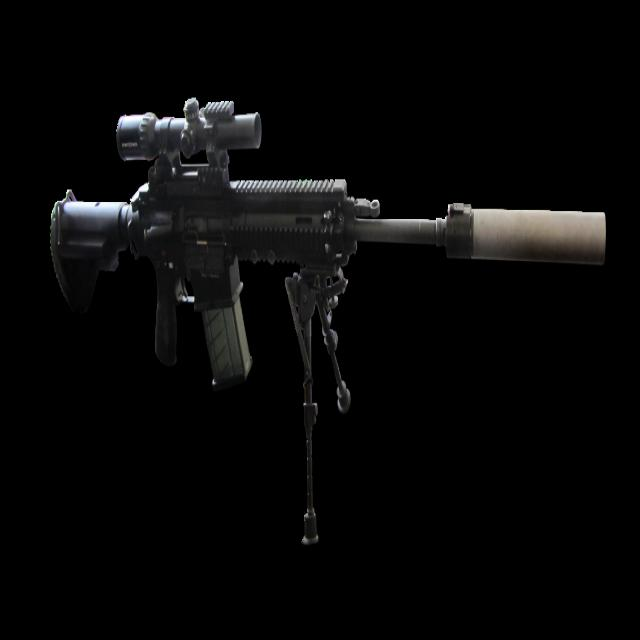Rifle: (49, 100, 607, 394)
